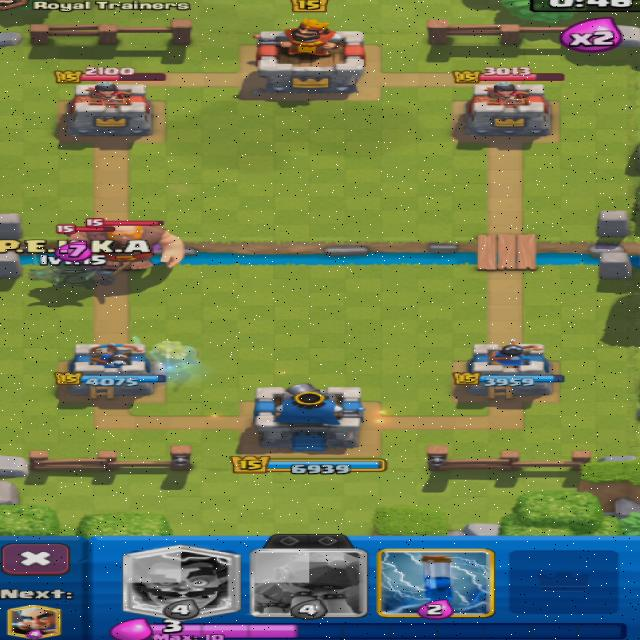Enemy-Giant: (72, 223, 182, 270)
Enemy-KingTower: (257, 18, 364, 93)
Enemy-PrincessTower: (66, 82, 151, 135), (466, 83, 550, 136)
Player-KingTower-Activated: (253, 383, 364, 451)
Player-PrincessTower: (54, 343, 166, 398), (467, 340, 557, 398)
Player-RoyalGhost: (147, 340, 198, 370), (133, 336, 142, 344)
